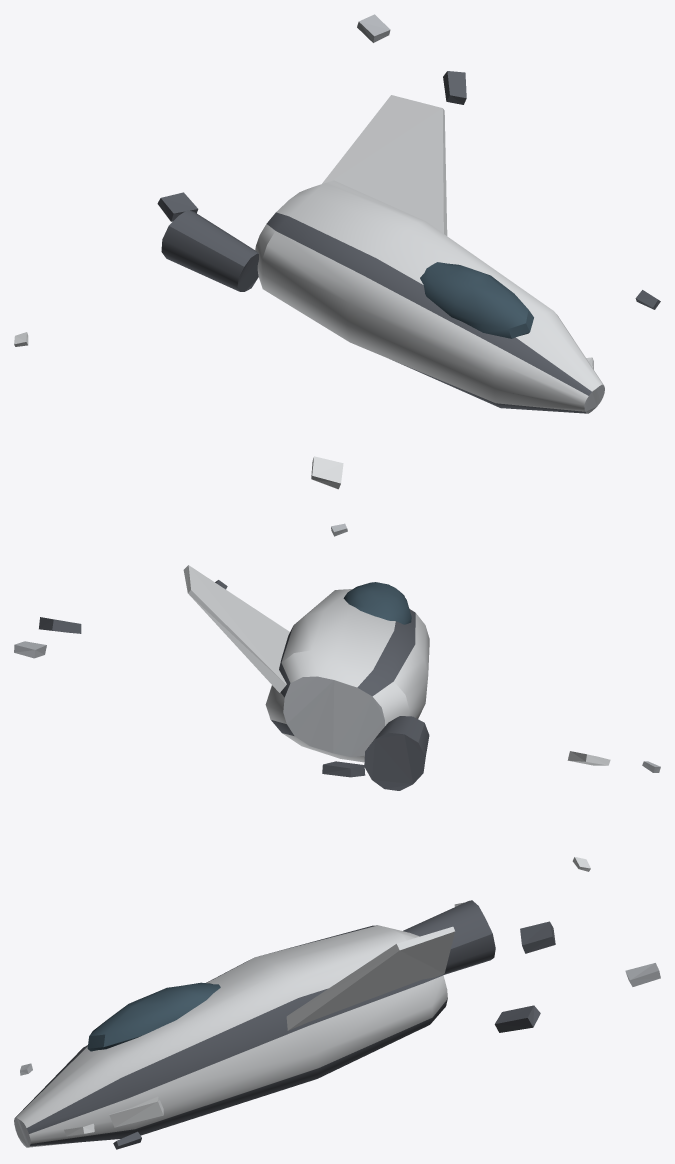
Rendered from crashed_pod.fbx.
The picture shows the model from 3 angles, top to bottom: view 1: azimuth 30°, elevation 25°; view 2: azimuth 150°, elevation 25°; view 3: azimuth 270°, elevation 25°; orthographic projection. The views are drawn at different scales.
Parts seen in each view (by area): view 1: Body; view 2: Body; view 3: Body.
Boxes of the visible parts, x1,y1,x2,y2 form: Body: (14,14,660,536); Body: (14,565,660,871); Body: (14,900,660,1149).
Bounding box in the file's own units: 10.09 × 4.77 × 9.89.
